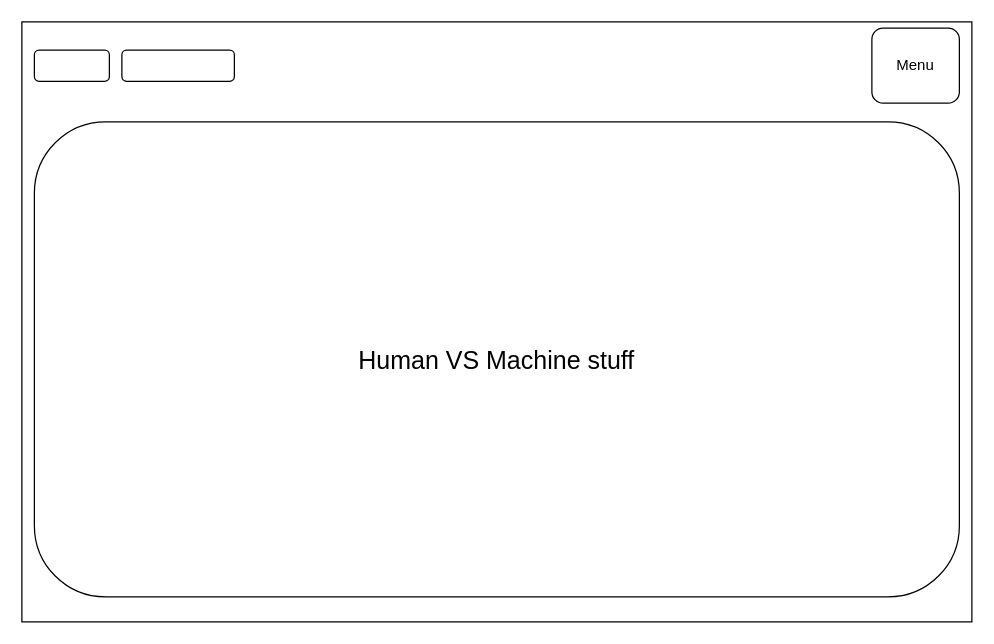
The diagram is 994 pixels wide and 644 high, and some of its shapes have lost their labels. Here are the shapes that lost their labels. From the top down, the box of each, then its label:
(33, 49, 109, 81): English
(121, 49, 234, 81): Back
